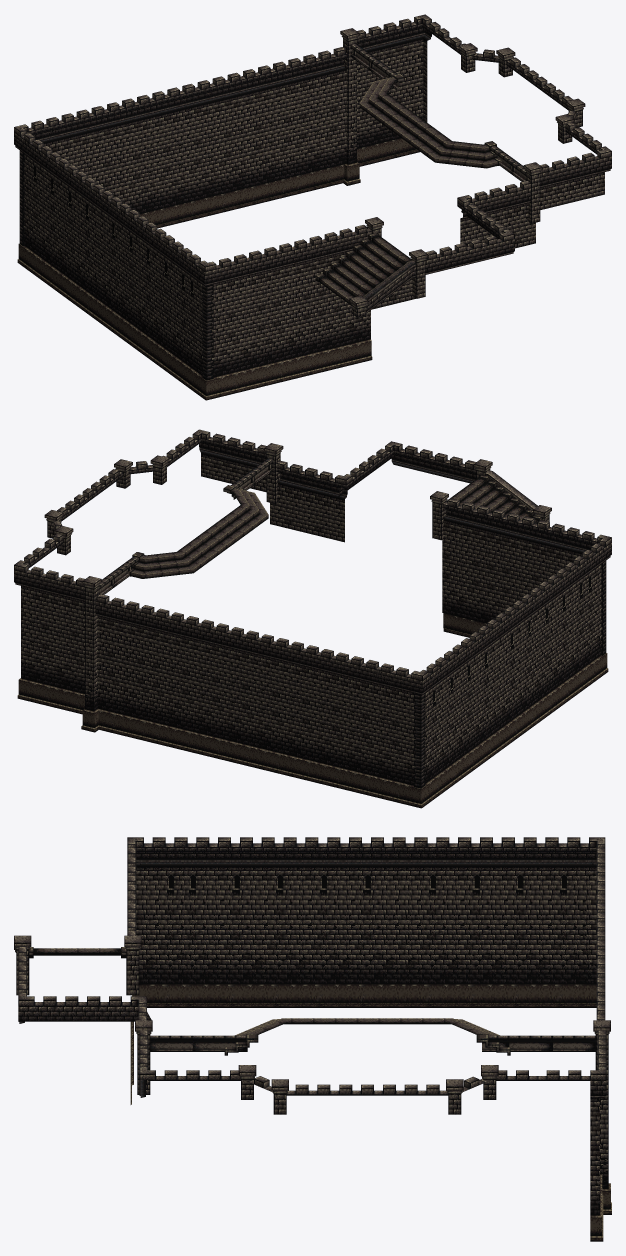
The model's file is EnvBdgMD_Forest_MothersGarden_B_Battle.FBX.
3 views of the same model, one above another, from view 1: azimuth 30°, elevation 25°; view 2: azimuth 150°, elevation 25°; view 3: azimuth 270°, elevation 25° (orthographic). The views are drawn at different scales.
Parts seen in each view (by area): view 1: EnvBdgMD_Forest_MothersGarden_B_Battle; view 2: EnvBdgMD_Forest_MothersGarden_B_Battle; view 3: EnvBdgMD_Forest_MothersGarden_B_Battle.
Part boxes in pixels (x1,y1,x2,y2): EnvBdgMD_Forest_MothersGarden_B_Battle: [14, 14, 611, 400]; EnvBdgMD_Forest_MothersGarden_B_Battle: [14, 429, 611, 808]; EnvBdgMD_Forest_MothersGarden_B_Battle: [14, 837, 611, 1241].
Bounding box in the file's own units: 2898 × 945 × 2740.
1 material, 1 textured.
